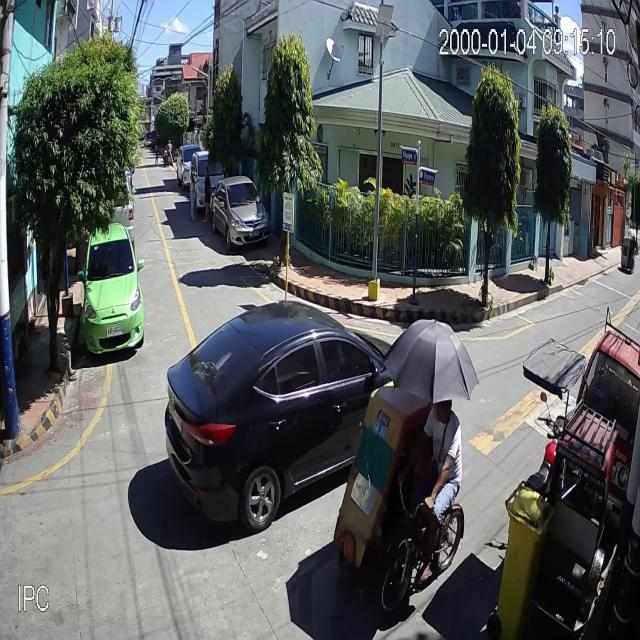standing: (188, 166, 200, 221), (202, 166, 211, 224)
walking: (154, 142, 160, 164)
